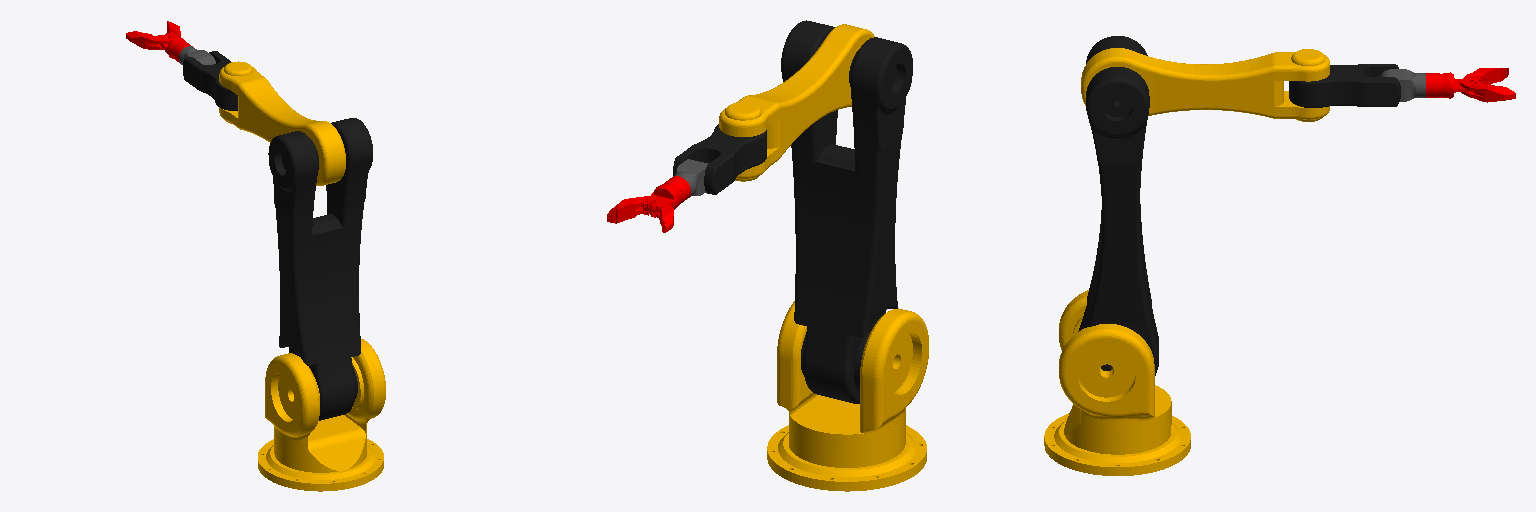
The robot description file, URDF, robot "robot_demo":
<?xml version="1.0"?>

<robot name="robot_demo">

  <!-- Color of materials -->
  <material name="yellow">
    <color rgba="1 1 0 1"/>
  </material>
  <material name="blue">
    <color rgba="0 0 1 1"/>
  </material>
  <material name="red">
    <color rgba="1 0 0 1"/>
  </material>
  <material name="n_negro">
    <color rgba="0.15 0.15 0.15 1"/>
  </material>
  <material name="b_negro">
    <color rgba="0.37 0.37 0.37 1"/>
  </material>
  <material name="dorado">
    <color rgba="1 0.74 0 1"/>
  </material>

  <material name="gris">
    <color rgba="0.76 0.76 0.76 1"/>
  </material>

  <link name="base_link">
    <visual>
      <geometry>
        <mesh filename="package://frproj/urdf/meshes/base_robot.stl" scale="0.001 0.001 0.001"/>
      </geometry>
      <origin rpy="1.57075 0 1.57075" xyz="-0.45 -0.2 0"/>
      <material name="gris" />
    </visual>
  </link>

  <!--<joint name="pan_joint" type="revolute">
    <parent link="base_link"/>
    <child link="pan_link"/>
    <origin xyz="0 0 0"/>
    <axis xyz="0 0 1" />
    <limit effort="300" velocity="0.1" lower="-3.1" upper="3.1"/>
  </joint>

  <link name="pan_link">
    <visual>
      <geometry>
        <cylinder length="0.4" radius="0.04"/>
      </geometry>
      <origin rpy="0 0 0" xyz="0 0 0.2"/>
      <material name="blue" />
    </visual>
  </link>-->

  <joint name="pan_joint" type="prismatic">
    <parent link="base_link"/>
    <child link="tilt_link"/>
    <origin xyz="0 0 0"/>
    <axis xyz="0 -1 0" />
    <limit effort="300" velocity="0.1" lower="0" upper="1.5"/>
  </joint>

  <link name="tilt_link"> 
    <visual>
      <geometry>
        <mesh filename="package://frproj/urdf/meshes/base_movil_complete.stl" scale="0.001 0.001 0.001"/>
      </geometry>
      <origin rpy="1.57075 0 1.57075" xyz="0 1.3 0.064"/>
      <material name="b_negro" />
    </visual>
    <collision>
      <geometry>
        <mesh filename="package://frproj/urdf/meshes/base_movil_complete.stl"/>
      </geometry>
    </collision>
    <inertial>
      <mass value="36.17"/>
      <!-- <origin rpy="1.57075 0 1.57075" xyz="0 1.3 0.064"/> -->
      <inertia ixx="2.22" ixy="0.0" ixz="0.0" iyy="2.89" iyz="0.0" izz="1.08"/>
    </inertial>
  </link>

  <joint name="tilt_joint" type="revolute"><!--cambio de nombre-->
    <parent link="tilt_link"/><!--union a nuevo link-->
    <child link="link_parado"/>  <!--link con nuevo nombre-->
    <origin xyz="0 1.5 0"/>
    <axis xyz="0 0 1" />
    <limit effort="300" velocity="0.1" lower="-3.1" upper="3.1"/>
  </joint>

  <link name="link_parado"> 
    <visual>
      <geometry>
        <mesh filename="package://frproj/urdf/meshes/brazo_01.stl" scale="0.001 0.001 0.001"/>
      </geometry>
      <origin rpy="1.57075 0 0" xyz="0 0 0.305"/>
      <material name="dorado" />
    </visual>
    <collision>
      <geometry>
        <mesh filename="package://frproj/urdf/meshes/brazo_01.stl"/>
      </geometry>
    </collision>
    <inertial>
      <mass value="60.812"/>
      <!-- <origin rpy="1.57075 0 0" xyz="0 0 0.305"/> -->
      <inertia ixx="1.3519" ixy="0.000355" ixz="-0.000200" iyy="0.545256" iyz="-0.079511" izz="1.472254"/>
    </inertial>
  </link>

  <joint name="joint10" type="revolute">
    <parent link="link_parado"/>
    <child link="link10"/>
    <origin xyz="0 0 0.517"/>
    <axis xyz="1 0 0" />
    <limit effort="300" velocity="0.1" lower="-3.1" upper="3.1"/>
  </joint>

  <link name="link10">
    <visual>
      <geometry>
        <mesh filename="package://frproj/urdf/meshes/brazo_02.stl" scale="0.001 0.001 0.001"/>
      </geometry>
      <origin rpy="1.57075 0 0" xyz="0 0 0"/>
      <material name="n_negro" />
    </visual>
    <collision>
      <geometry>
        <mesh filename="package://frproj/urdf/meshes/brazo_02.stl"/>
      </geometry>
    </collision>
    <inertial>
      <mass value="93.117"/>
      <!-- <origin rpy="1.57075 0 0" xyz="0 0 0"/> -->
      <inertia ixx="11.381652" ixy="-0.000192030" ixz="-0.00003446" iyy="0.384426" iyz="0.093866" izz="11.561496"/>
    </inertial>
  </link>

 <joint name="joint11" type="revolute">
    <parent link="link10"/>
    <child link="link11"/>
    <origin xyz="0 0 0.6"/>
    <axis xyz="1 0 0" />
    <limit effort="300" velocity="0.1" lower="-3.1" upper="3.1"/>
  </joint>

  <link name="link11">
    <visual>
      <geometry>
        <mesh filename="package://frproj/urdf/meshes/brazo_03.stl" scale="0.001 0.001 0.001"/>
      </geometry>
      <origin rpy="0 0 0" xyz="0 0 0"/>
      <material name="dorado" />
    </visual>
    <collision>
      <geometry>
        <mesh filename="package://frproj/urdf/meshes/brazo_03.stl"/>
      </geometry>
    </collision>
    <inertial>
      <mass value="28.047"/>
      <!-- <origin rpy="0 0 0" xyz="0 0 0"/> -->
      <inertia ixx="1.387599" ixy="0.0" ixz="-0.0" iyy="0.045668" iyz="0.006528" izz="1.365151"/>
    </inertial>
  </link>

<joint name="jc1" type="revolute"><!--cambio de nombre-->
    <parent link="link11"/><!--link con nuevo nombre-->
    <child link="lc1"/><!--se une a nuevo link creado-->
    <origin xyz="0 0.4 0"/><!--altura nueva de link1-->
    <axis xyz="0 0 1" />
    <limit effort="300" velocity="0.1" lower="-3.1" upper="3.1"/>
  </joint>

  <link name="lc1"><!--nuevo link-->
    <visual>
      <geometry>
        <mesh filename="package://frproj/urdf/meshes/brazo_04.stl" scale="0.001 0.001 0.001"/>
      </geometry>
      <origin rpy="0 1.57075 0" xyz="0 0 0"/>
      <material name="n_negro" />
    </visual>
    <collision>
      <geometry>
        <mesh filename="package://frproj/urdf/meshes/brazo_04.stl"/>
      </geometry>
    </collision>
    <inertial>
      <mass value="8.330"/>
      <!-- <origin rpy="0 1.57075 0" xyz="0 0 0"/> -->
      <inertia ixx="0.051603" ixy="0.0" ixz="-0.0" iyy="0.008680" iyz="0.0" izz="0.048753"/>
    </inertial>
  </link>

  <joint name="jc2" type="revolute"><!--cambio de nombre-->
    <parent link="lc1"/><!--link con nuevo nombre-->
    <child link="lc2"/><!--se une a nuevo link creado-->
    <origin xyz="0 0.16 0"/><!--altura nueva de link1-->
    <axis xyz="1 0 0" />
    <limit effort="300" velocity="0.1" lower="-3.1" upper="3.1"/>
  </joint>

  <link name="lc2"><!--nuevo link-->
    <visual>
      <geometry>
        <mesh filename="package://frproj/urdf/meshes/brazo_05.stl" scale="0.001 0.001 0.001"/>
      </geometry>
      <origin rpy="1.57075 0 0" xyz="0 0 0"/>
      <material name="b_negro" />
    </visual>
    <collision>
      <geometry>
        <mesh filename="package://frproj/urdf/meshes/brazo_05.stl"/>
      </geometry>
    </collision>
    <inertial>
      <mass value="8.470"/>
      <!-- <origin rpy="1.57075 0 0" xyz="0 0 0"/> -->
      <inertia ixx="0.001883" ixy="0.0" ixz="-0.0" iyy="0.001935" iyz="0.0" izz="0.000654"/>
    </inertial>
  </link>


  <joint name="jc3" type="revolute"><!--cambio de nombre-->
    <parent link="lc2"/><!--link con nuevo nombre-->
    <child link="l5"/><!--se une a nuevo link creado-->
    <origin xyz="0 0 0"/><!--altura nueva de link1-->
    <axis xyz="0 1 0" />
    <limit effort="300" velocity="0.1" lower="-3.1" upper="3.1"/>
  </joint>

  <link name="l5">
    <visual>
      <geometry>
        <mesh filename="package://frproj/urdf/meshes/brazo_06_gripper.stl" scale="0.001 0.001 0.001"/>
      </geometry>
      <origin rpy="0 0 0" xyz="0 0.06 0"/>
      <material name="red" />
    </visual>
    <collision>
      <geometry>
        <mesh filename="package://frproj/urdf/meshes/brazo_06_gripper.stl"/>
      </geometry>
    </collision>
    <inertial>
      <mass value="8.470"/>
      <!-- <origin rpy="0 0 0" xyz="0 0.06 0"/> -->
      <inertia ixx="0.020919" ixy="0.0" ixz="0.0" iyy="0.001792" iyz="0.0" izz="0.022240"/>
    </inertial>
  </link>

</robot>

--- What the picture shows (computed from the rendered views, not written in the file) ---
3 views of the same robot in one strip: view 1: azimuth 30°, elevation 25°; view 2: azimuth 150°, elevation 25°; view 3: azimuth 270°, elevation 25° (orthographic).
Model robot_demo with 8 links and 7 joints (6 revolute, 1 prismatic), rooted at base_link, posed every joint at zero.
Visible links, largest first — view 1: link10, link_parado, link11, lc1, l5; view 2: link10, link_parado, link11, lc1, l5, lc2; view 3: link_parado, link10, link11, lc1, l5, lc2.
Boxes of the visible links, bbox=[...] form: link10: bbox=[268, 118, 372, 420]; link_parado: bbox=[258, 339, 385, 491]; link11: bbox=[219, 61, 345, 185]; lc1: bbox=[183, 51, 237, 110]; l5: bbox=[126, 21, 192, 62]; link10: bbox=[781, 20, 912, 403]; link_parado: bbox=[767, 301, 928, 491]; link11: bbox=[719, 24, 874, 181]; lc1: bbox=[673, 124, 766, 194]; l5: bbox=[607, 176, 690, 232]; lc2: bbox=[673, 159, 707, 197]; link_parado: bbox=[1044, 290, 1190, 475]; link10: bbox=[1078, 36, 1158, 375]; link11: bbox=[1081, 48, 1329, 121]; lc1: bbox=[1289, 64, 1400, 107]; l5: bbox=[1426, 68, 1515, 102]; lc2: bbox=[1380, 69, 1425, 101].
Bounding box of the posed robot: 0.3 × 0.9636 × 0.8869 m (x, y, z).
6 mesh visuals loaded from 8 distinct referenced files (6 binary STL); not drawn: 2 (reference not matched to a file when rendering).
